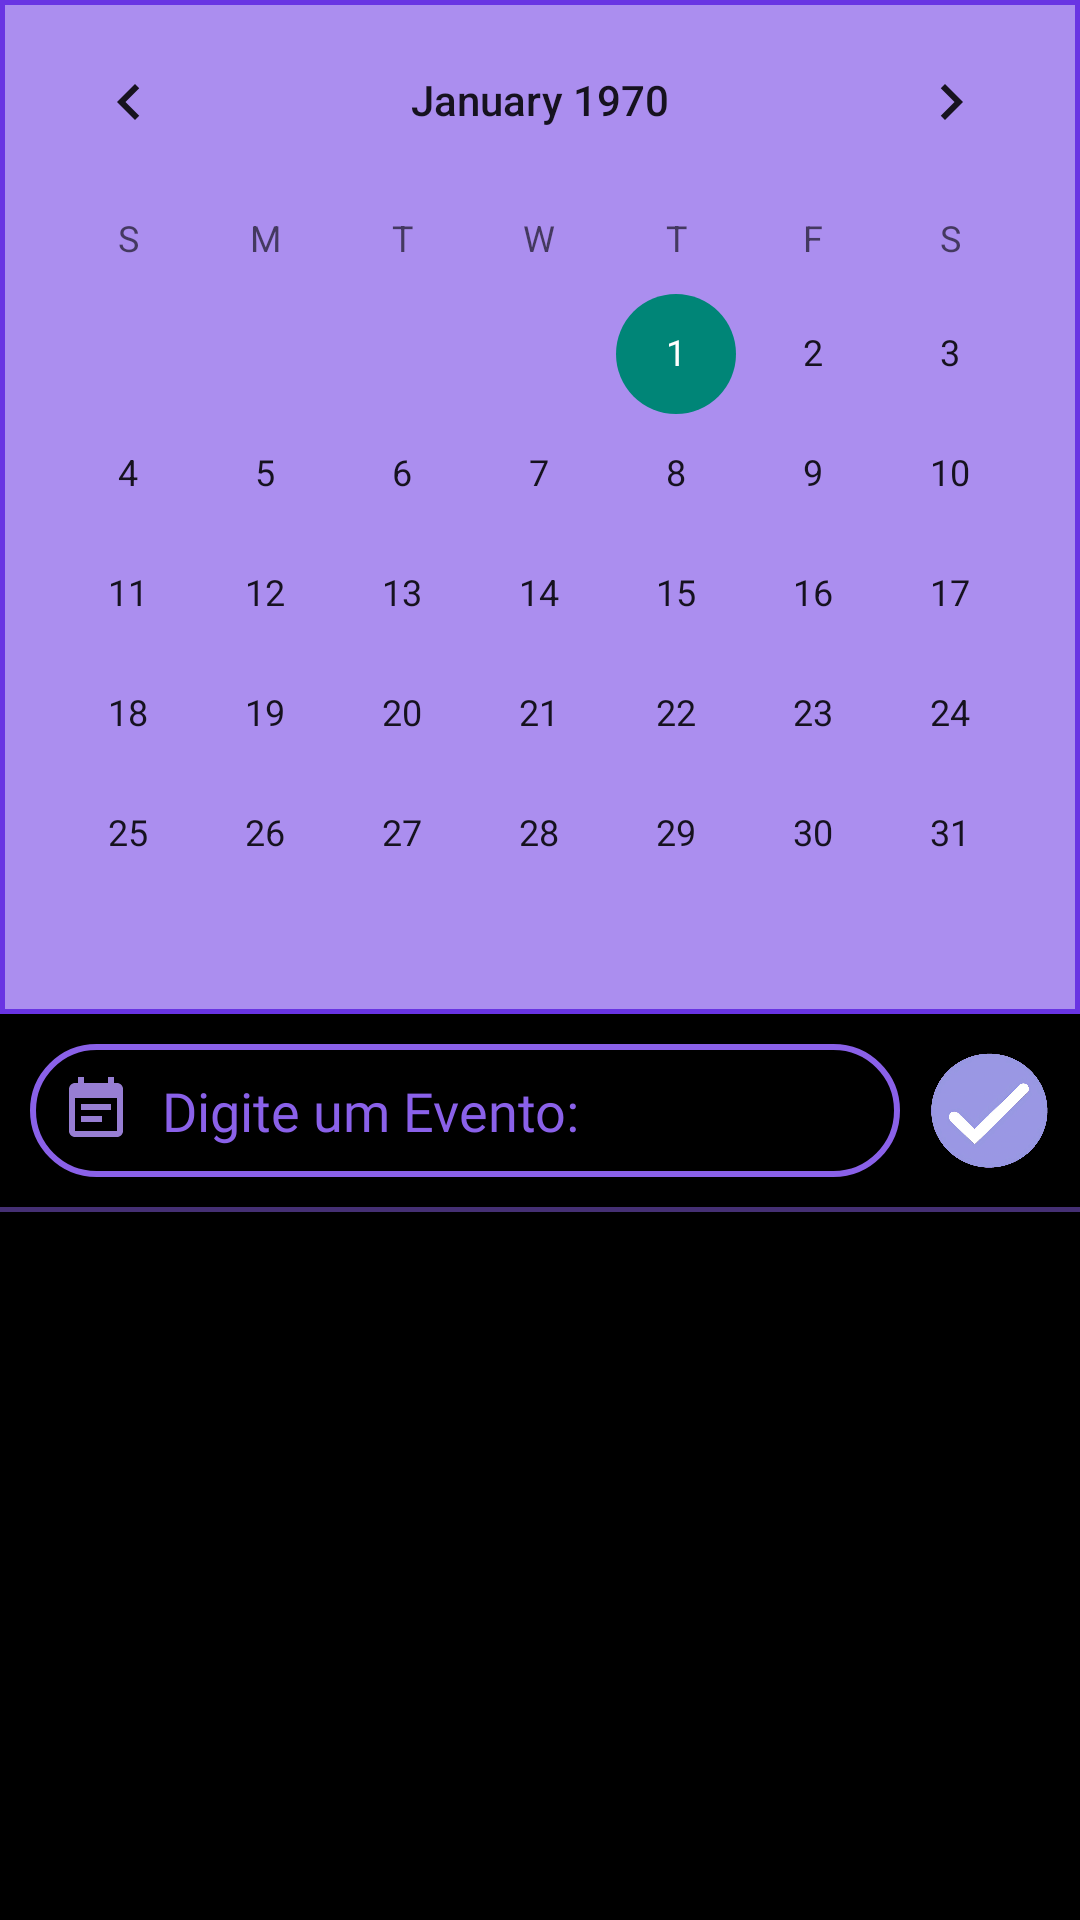

Screen size 1080x1920. Icon name, then its center in pixels as (x,y):
checkicon: (989,1110)
